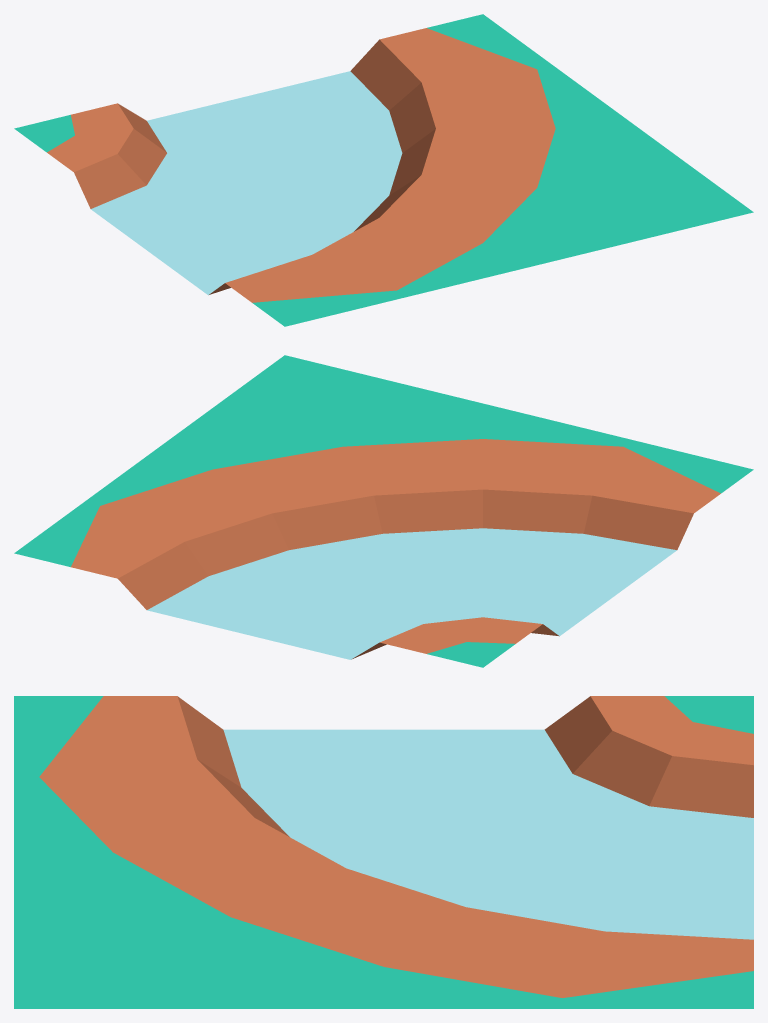
The model's file is ground_riverBendBank.fbx.
3 renders of one model, top to bottom at view 1: azimuth 30°, elevation 25°; view 2: azimuth 150°, elevation 25°; view 3: azimuth 270°, elevation 25°, orthographic. The views are drawn at different scales.
Visible parts, largest first — view 1: ground_riverBendBank; view 2: ground_riverBendBank; view 3: ground_riverBendBank.
Boxes of the visible parts, x1,y1,x2,y2 form: ground_riverBendBank: [14, 14, 753, 326]; ground_riverBendBank: [14, 355, 753, 667]; ground_riverBendBank: [14, 696, 753, 1008].
Size of the model in its own units: 10 by 0.5 by 10.
